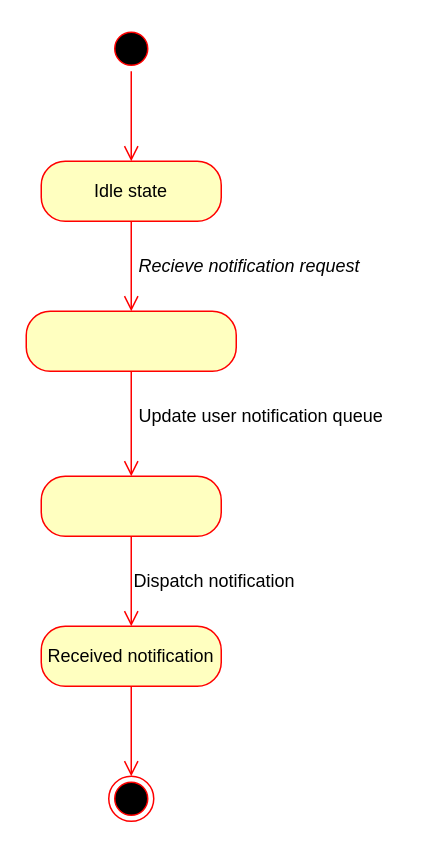
This 443x848 diagram has some shape labels left out. Each missing label, with the box of its shape:
New notification state: (25, 310, 236, 371)
Notification queue updated: (40, 475, 221, 536)
